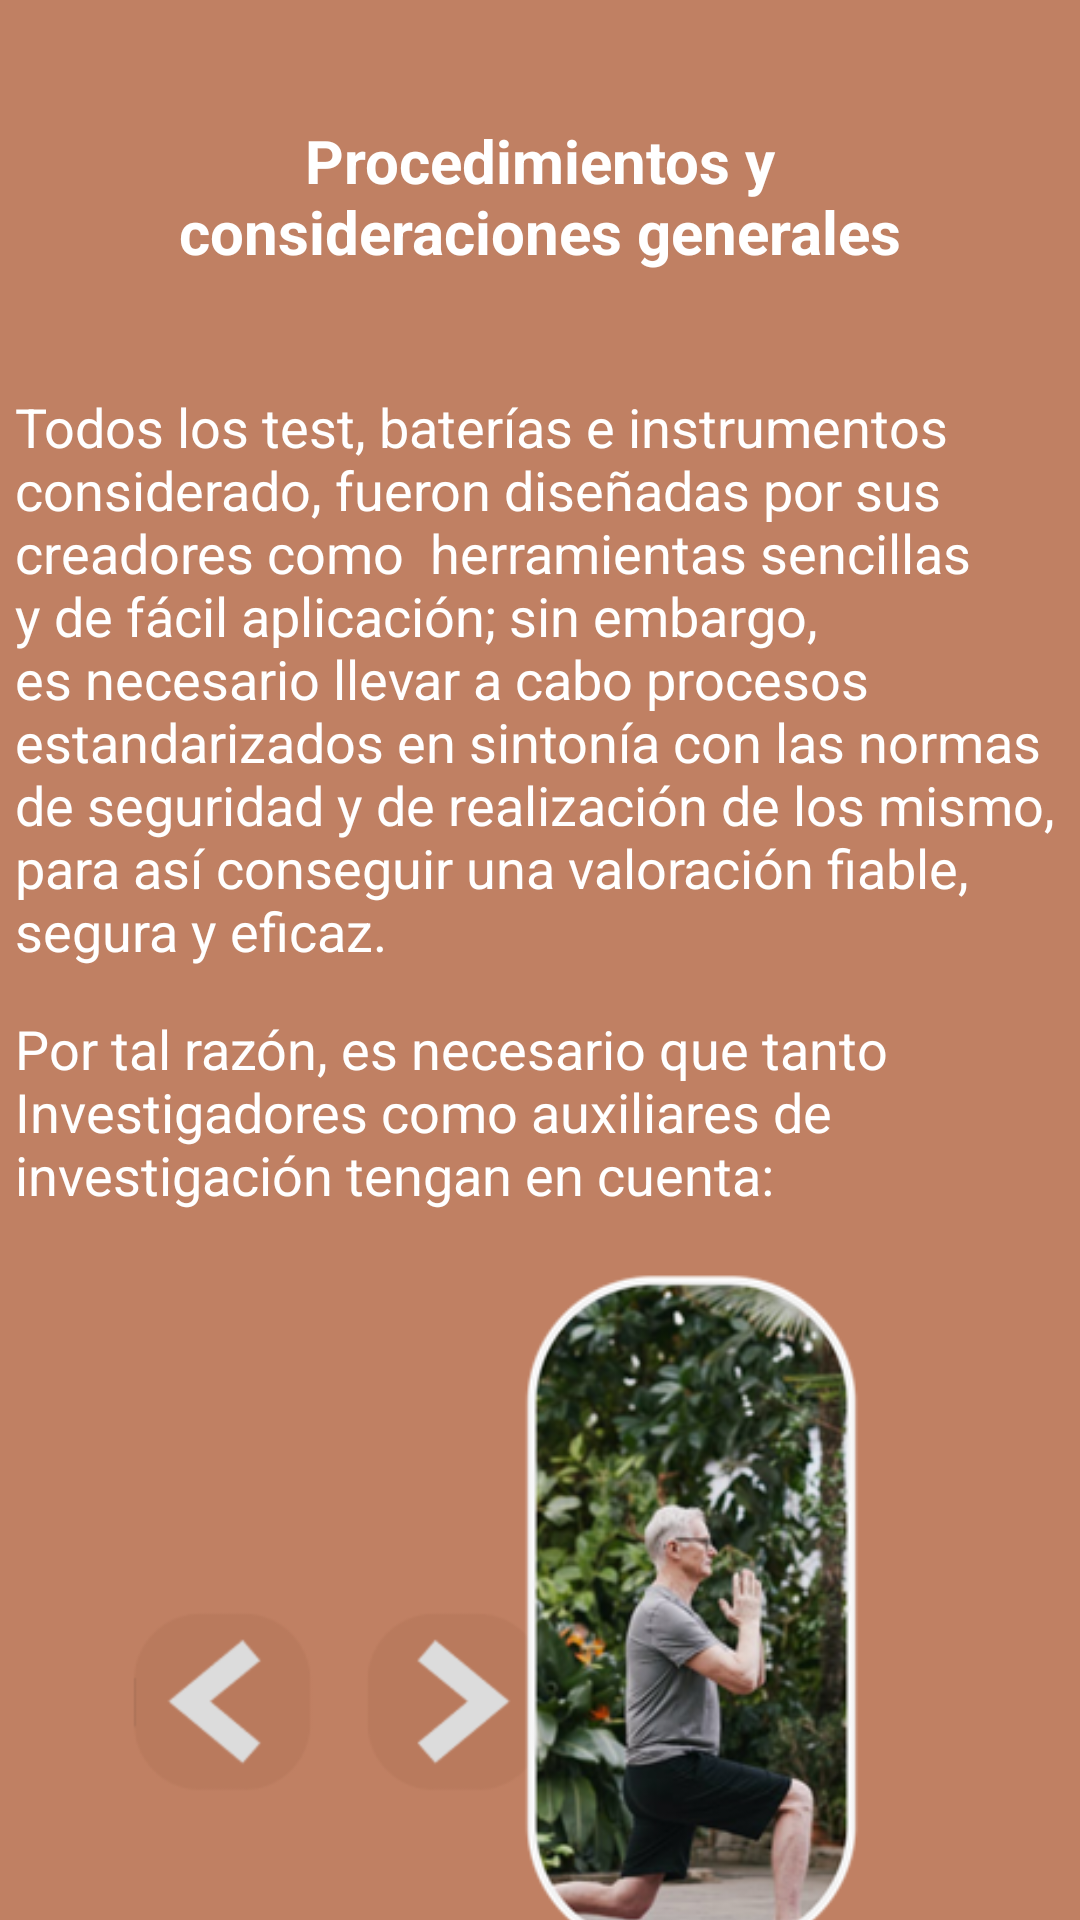

Icons on this 1080 × 1920 Android screen, each with its box as (x1, y1, x2, y2):
regresar: (169, 1640, 260, 1763)
seguir: (418, 1590, 558, 1800)
